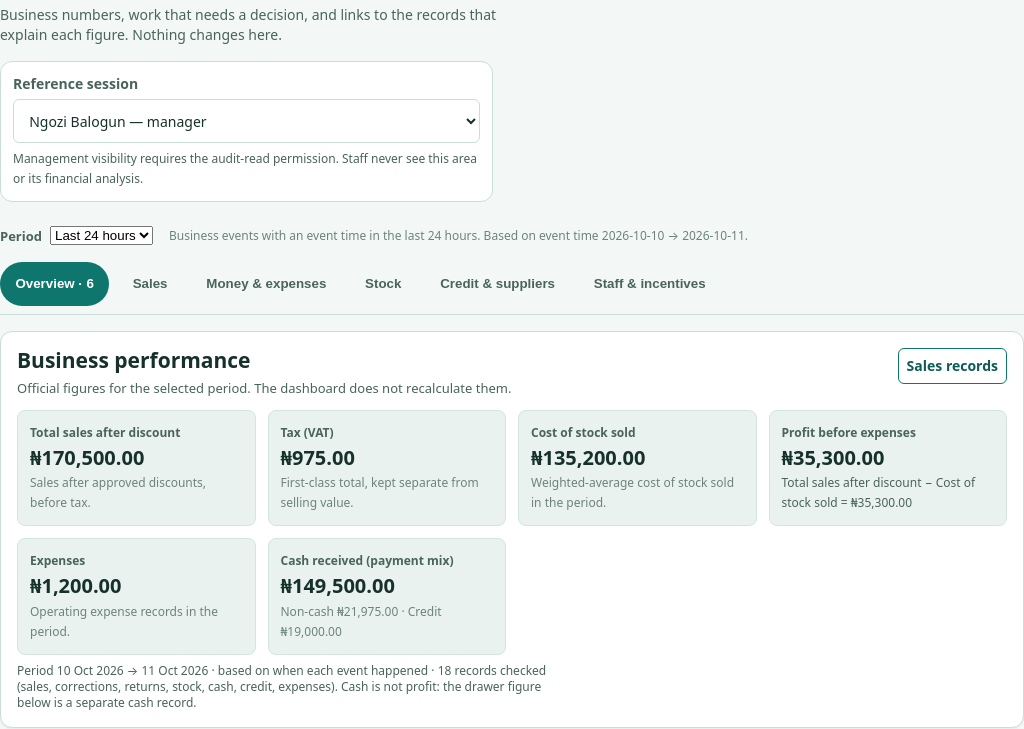
Test: management dashboard › separates customer credit outstanding from supplier obligations with their records
Click the tab "Credit & suppliers" at (498, 284), box [425,262,570,306]
(page scrolled)
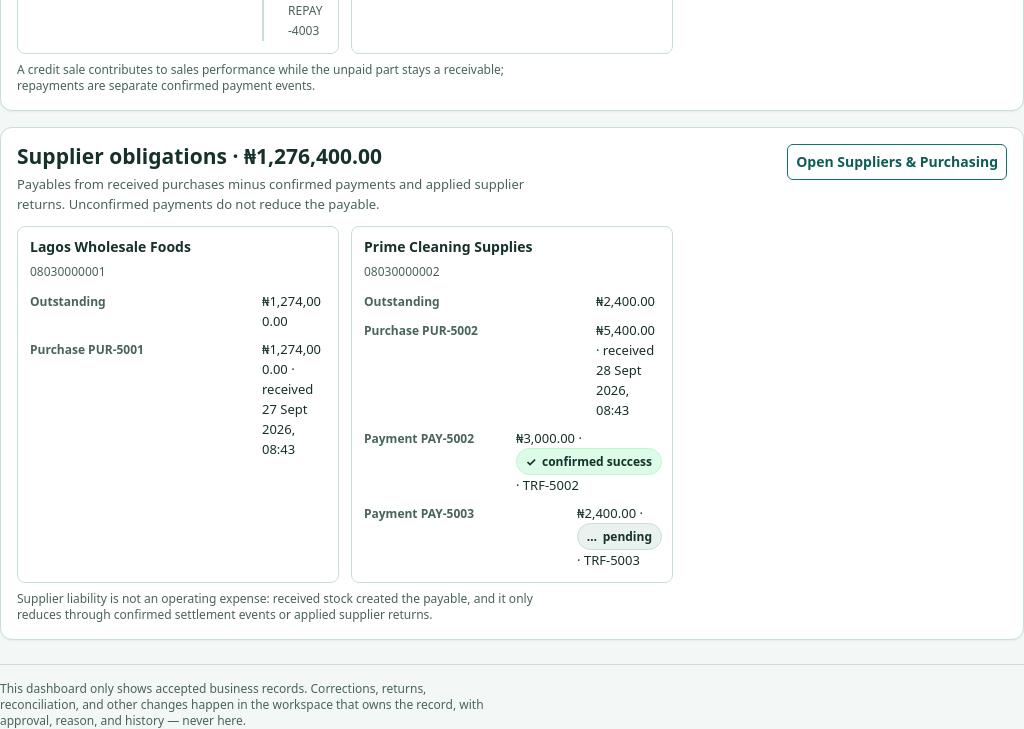
Now the heading "Lagos Wholesale Foods" is shown, box [30,237,191,256]
Now the heading "Prime Cleaning Supplies" is shown, box [364,237,533,256]
Now the text "Purchase PUR-5001" is shown, box [30,341,144,358]
